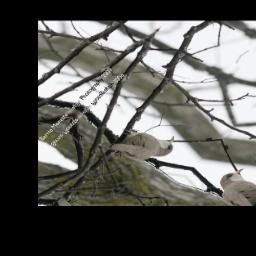Cuckoo: (105, 118, 183, 171)
